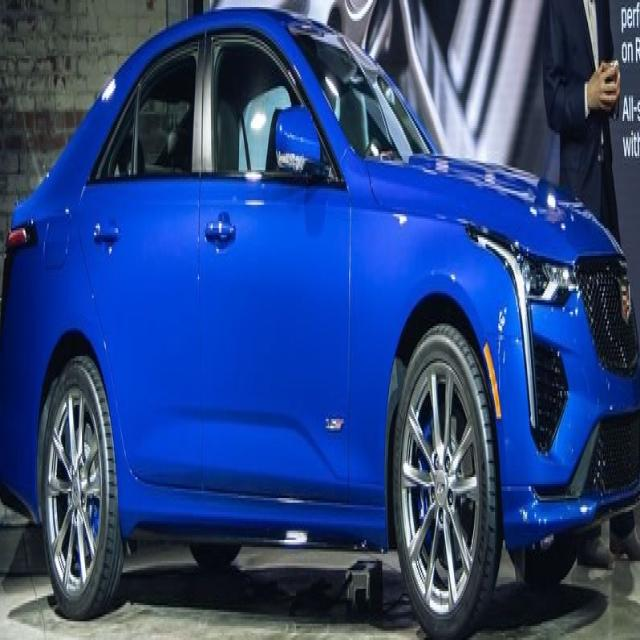blue: (0, 9, 640, 632)
